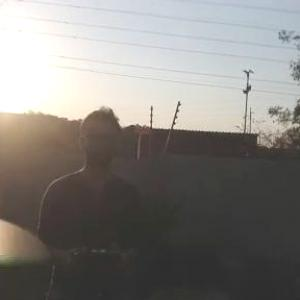follow: (32, 102, 151, 299)
